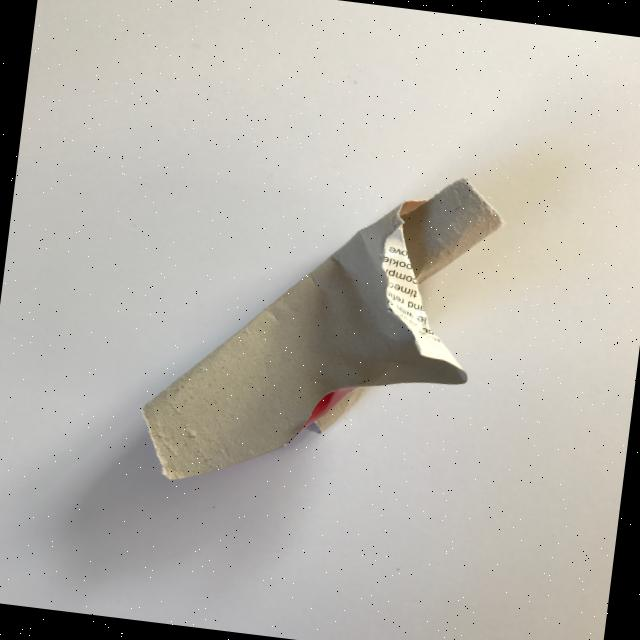paper: (132, 140, 508, 516)
